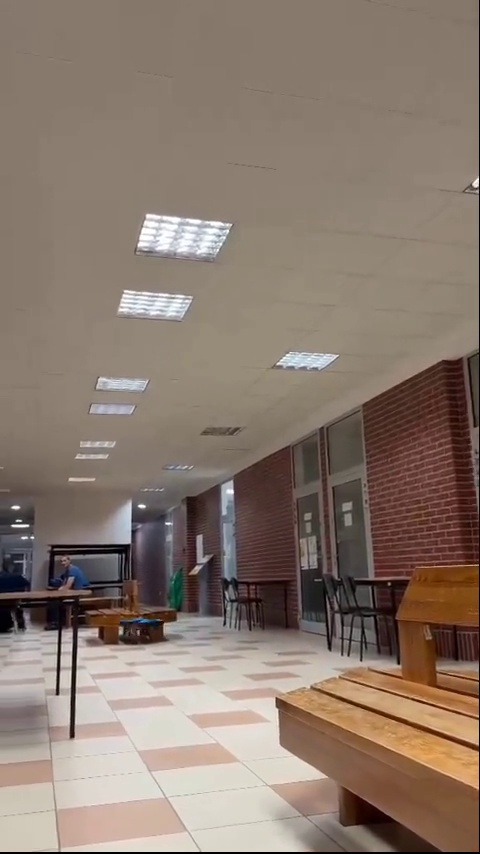drone: (119, 614, 170, 637)
no vest: (44, 559, 92, 613)
